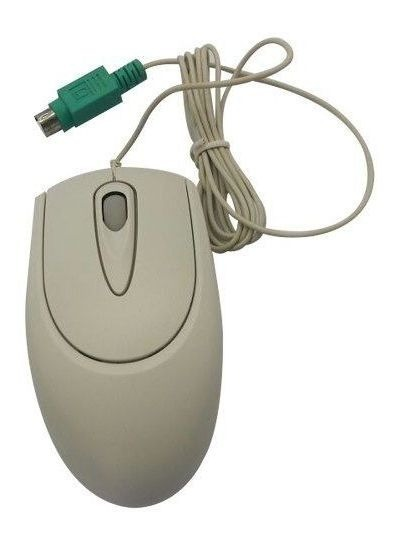mouse: (24, 160, 227, 515)
